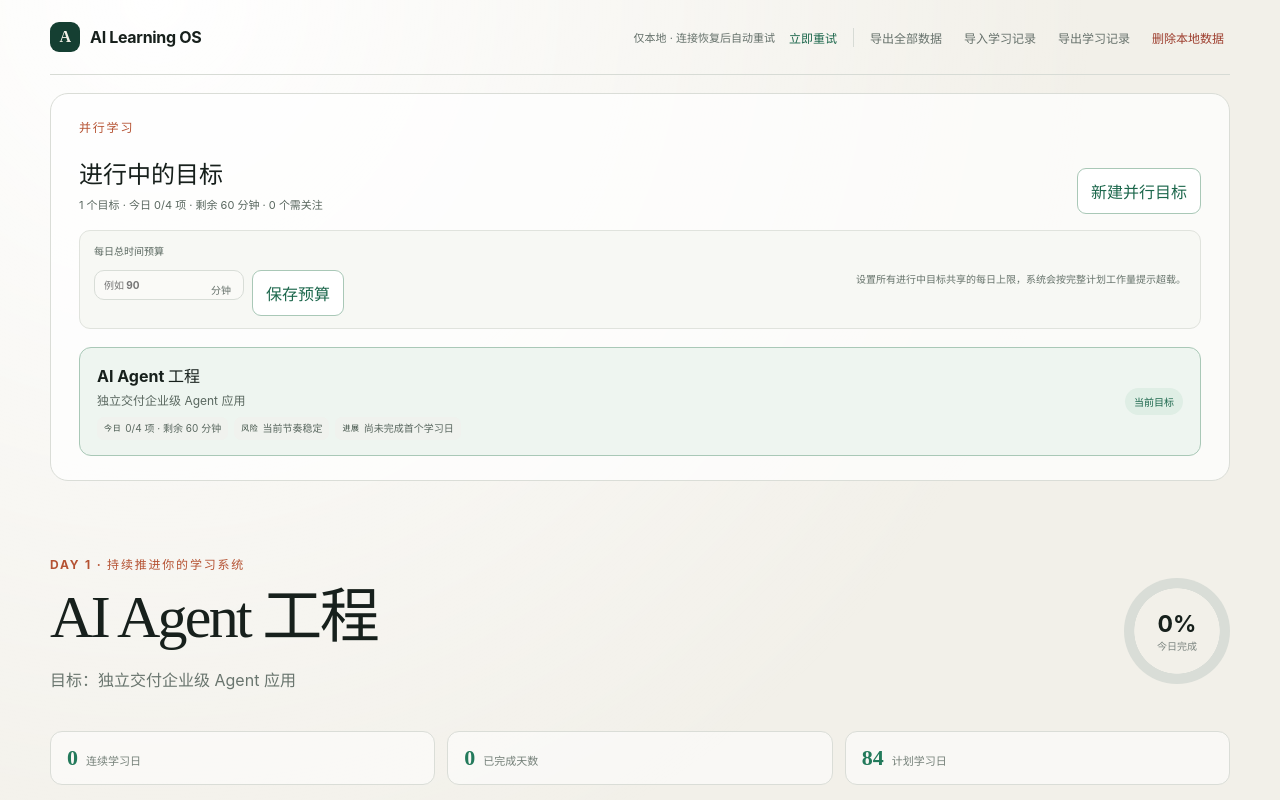
Test: learning data controls › downloads a dated backup of the complete learning portfolio
The width and height of the screenshot is (1280, 800).
Click the button "导出全部数据" at [906, 37], box [864,28,948,46]
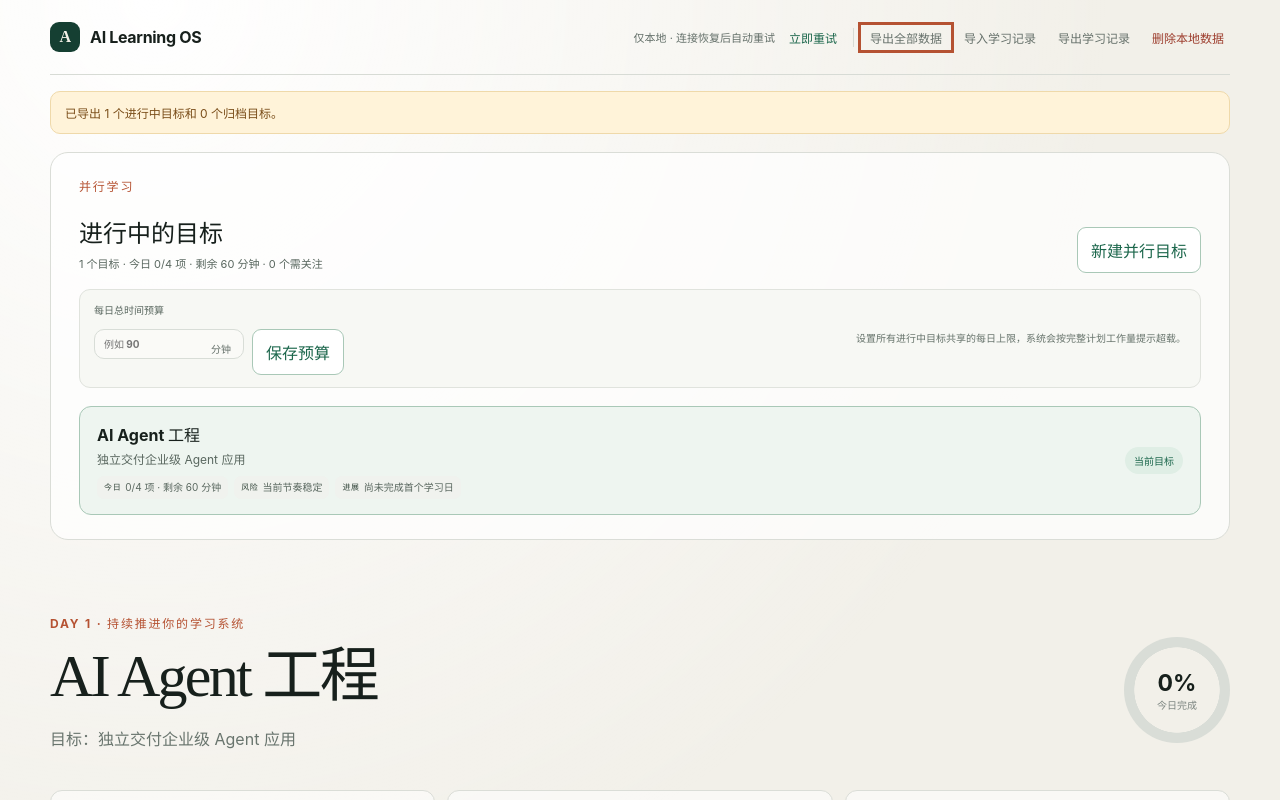
expect the message shows "1 个进行中目标": met, box [65,106,283,121]
